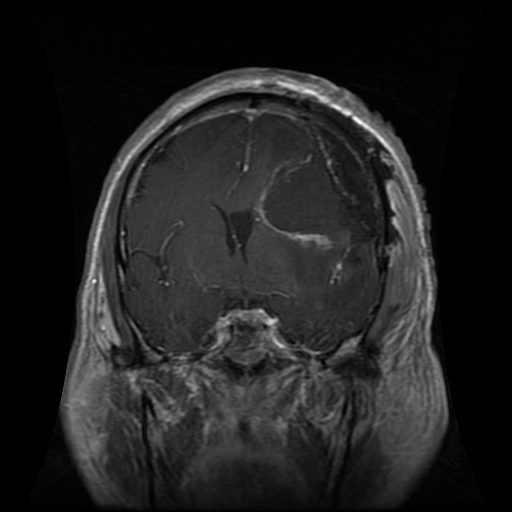glioma: (254, 127, 382, 287)
